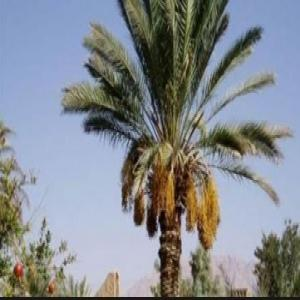palm tree: (60, 0, 292, 296)
